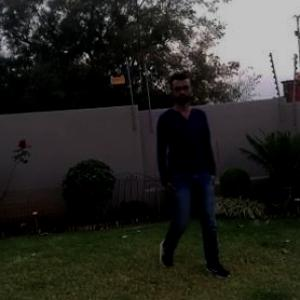follow: (140, 69, 210, 276)
